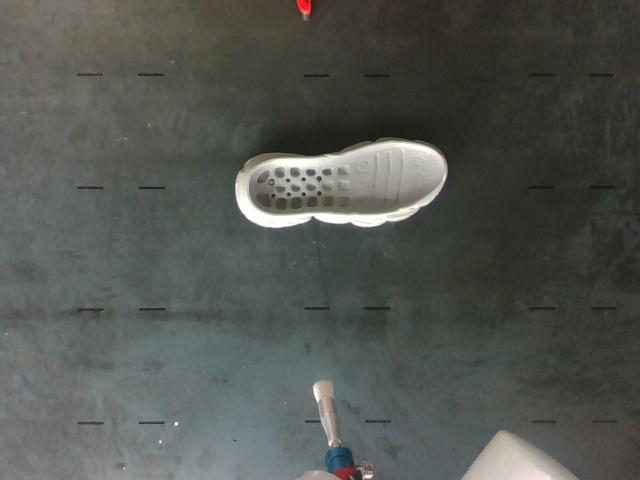shoes: (248, 142, 446, 216)
